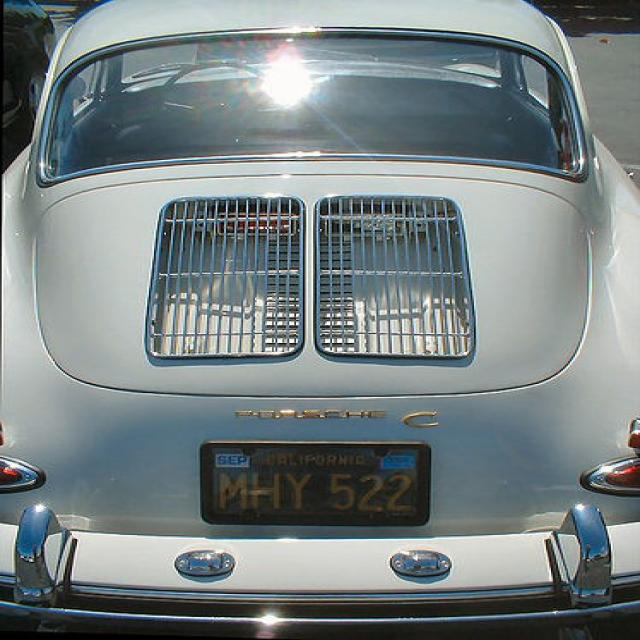car: (1, 1, 639, 639)
